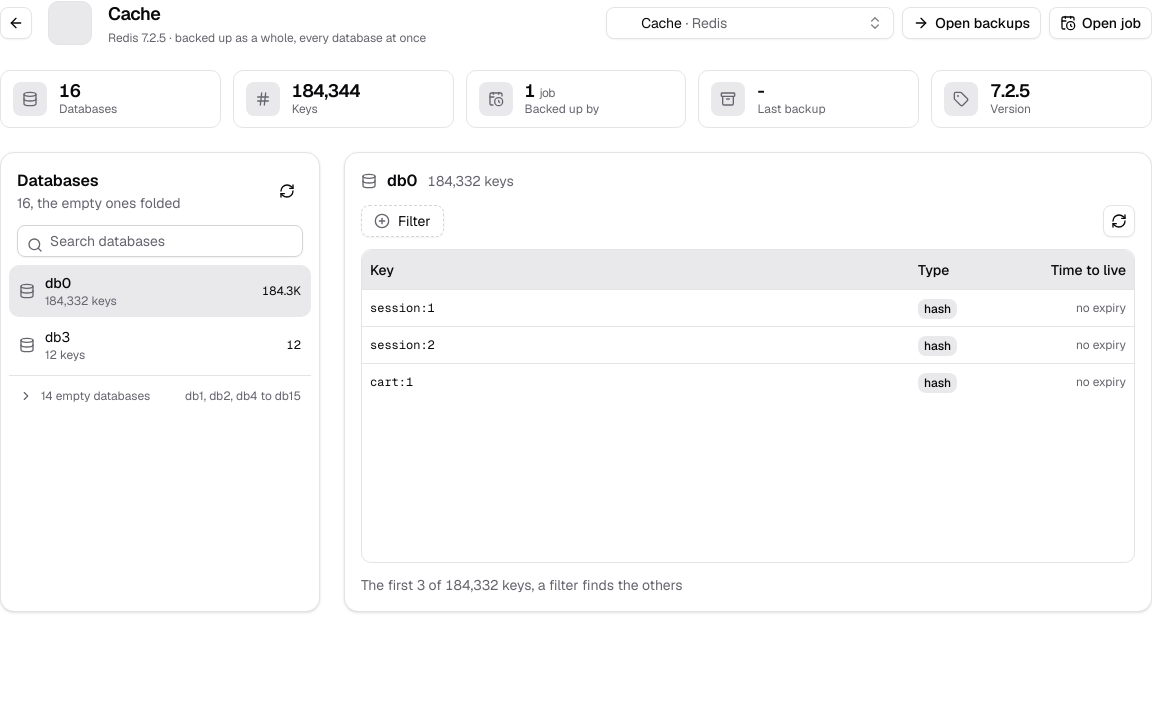
Test: the page of a database › reads the keys of a numbered database without pages and filters them by the key on the server
Expected: the text "session:1" is shown, [362,290,910,326]
Expected: the text "The first 3 of 184,332 keys, a filter finds the others" is shown, [361,576,683,594]
Click the button "Filter" at (402, 221), box [361,205,444,237]
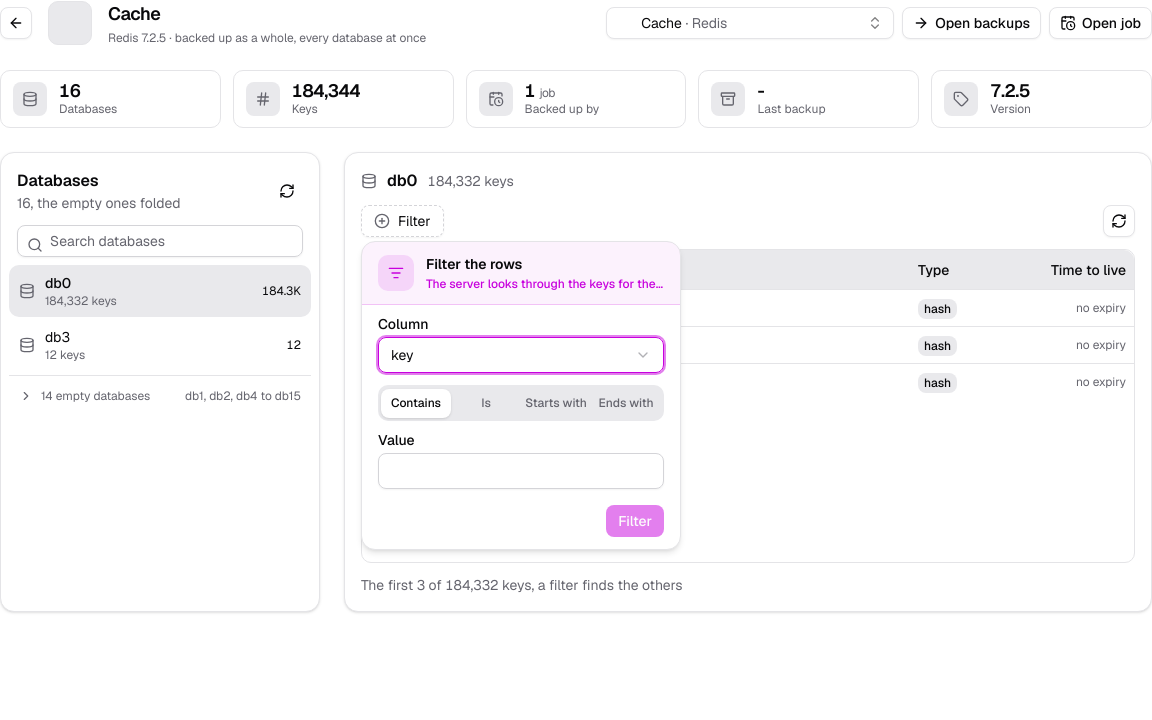
Click the tab "Starts with" at (556, 403), box [521,388,591,418]
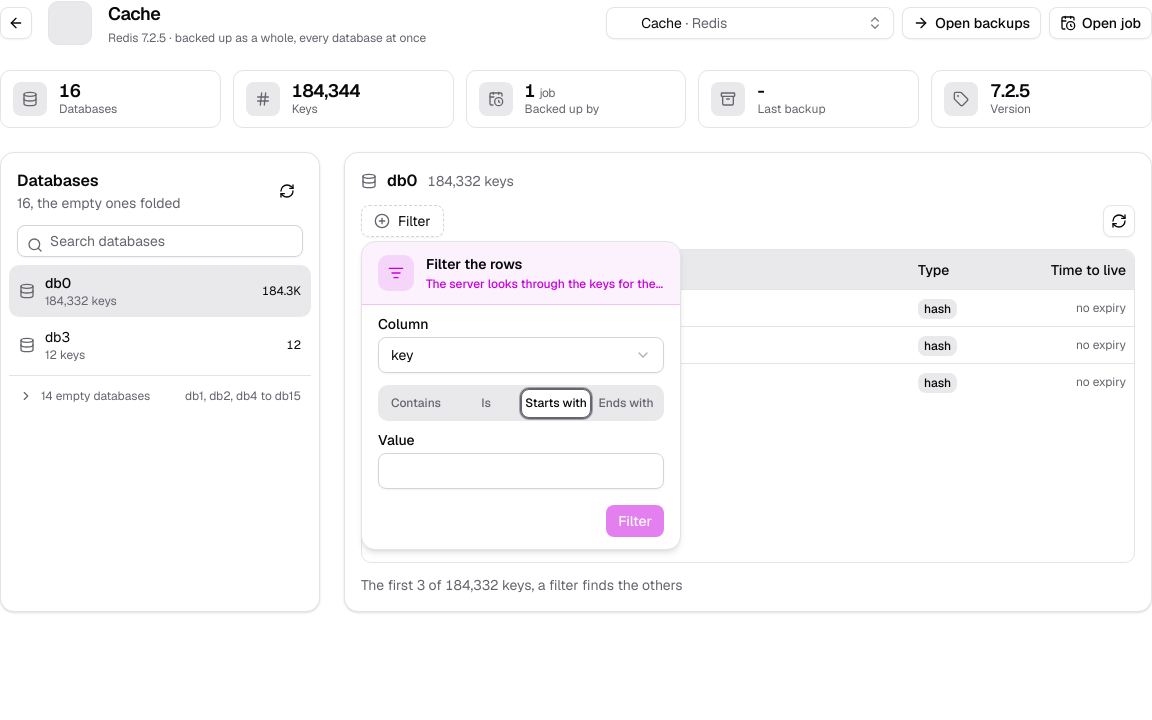
Type "session:" into the field labelled "Value" at (521, 471), box [378,453,664,489]
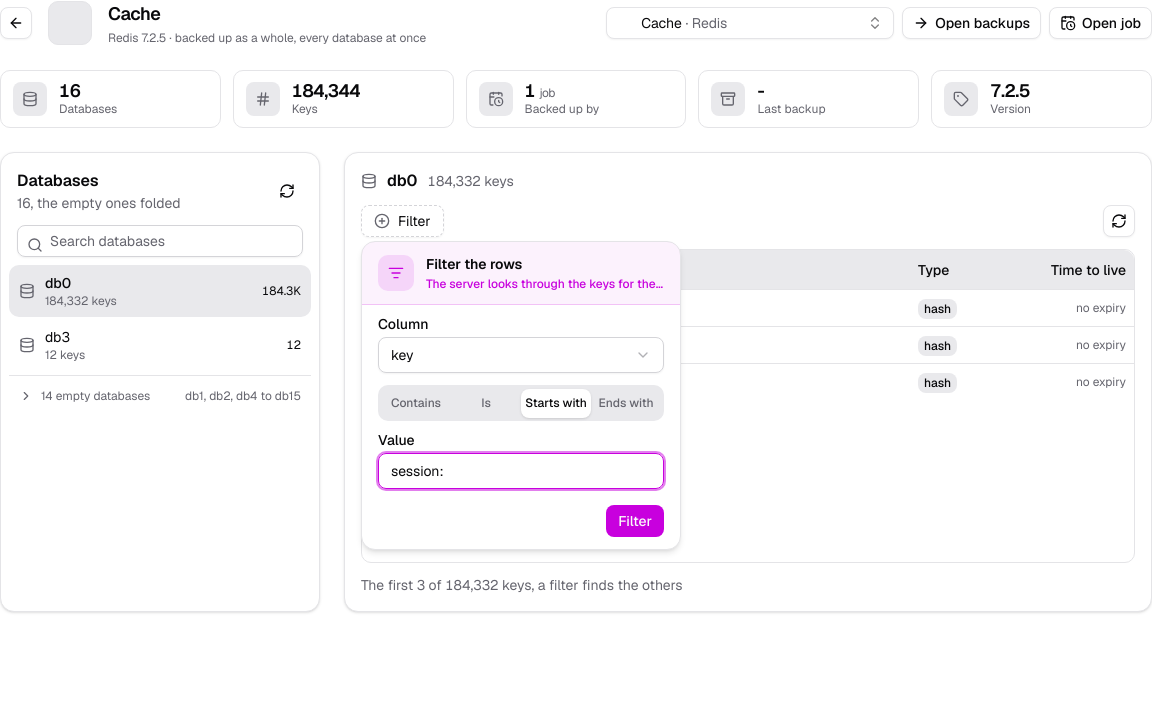
Click the button "Filter" below "Value" at (635, 521), box [606,505,664,537]
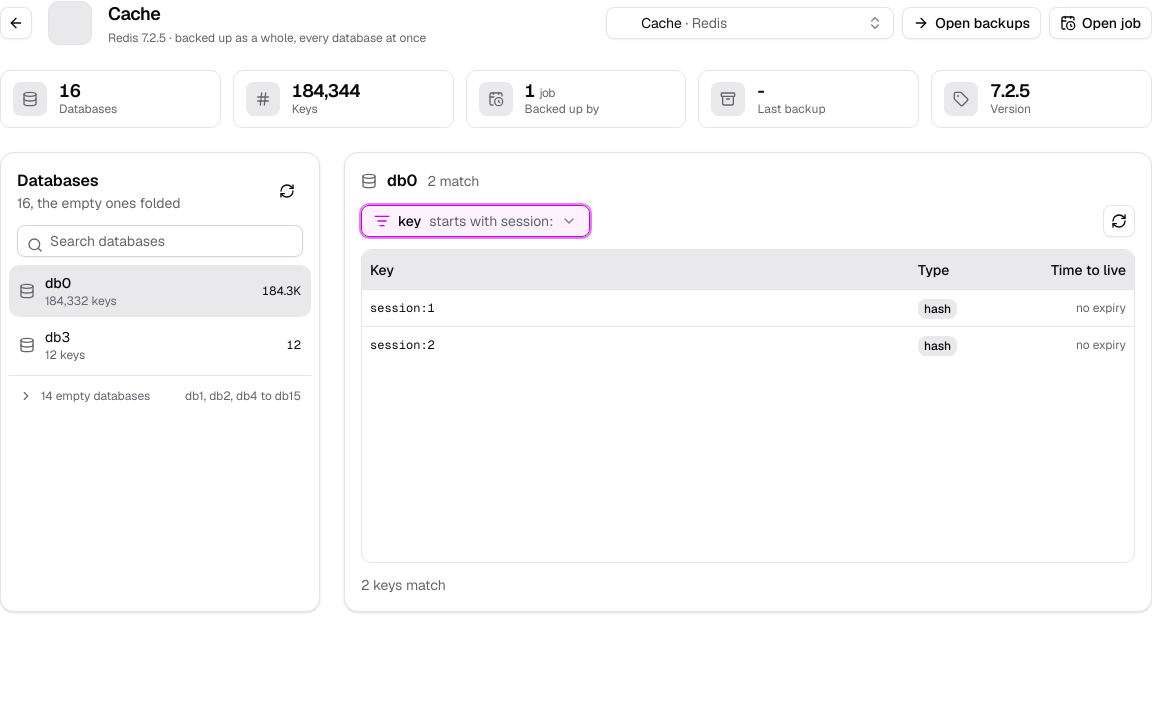
Expected: the text "2 keys match" is shown, [361,576,446,594]
